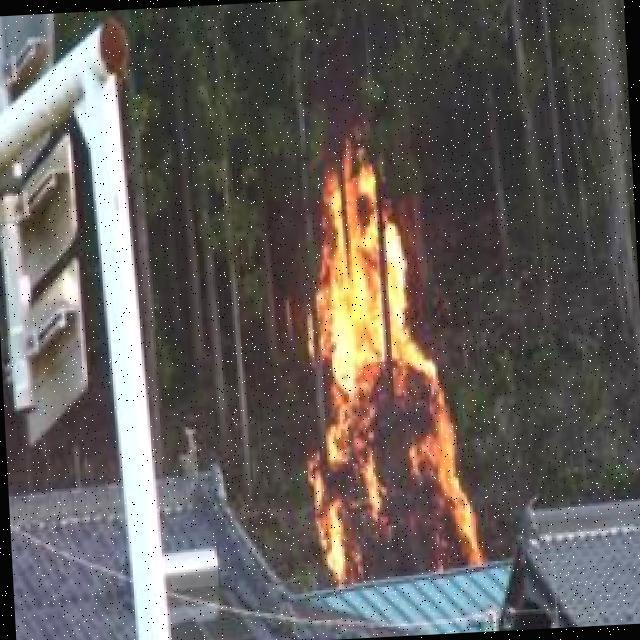Fire: (297, 148, 483, 590)
